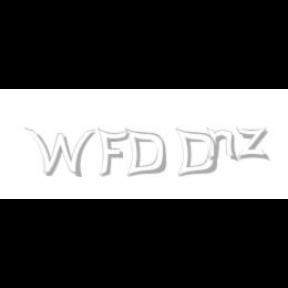D: (174, 128, 218, 178), (124, 128, 166, 178)
F: (97, 128, 129, 178)
W: (24, 128, 96, 178)
n: (206, 128, 240, 162)
z: (236, 128, 272, 160)
